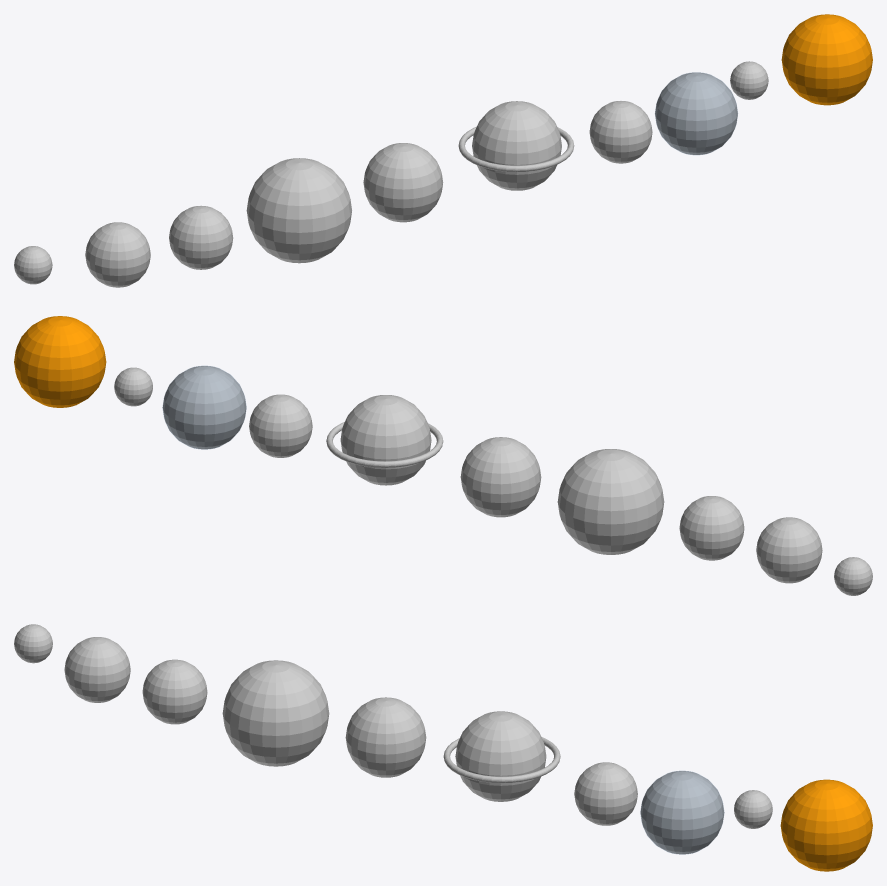
The model's file is uploads_files_896621_solarsystem.obj.
3 views of the same model, one above another, from view 1: azimuth 30°, elevation 25°; view 2: azimuth 150°, elevation 25°; view 3: azimuth 330°, elevation 25° (orthographic).
Size of the model in its own units: 15178 by 1766 by 1824.
